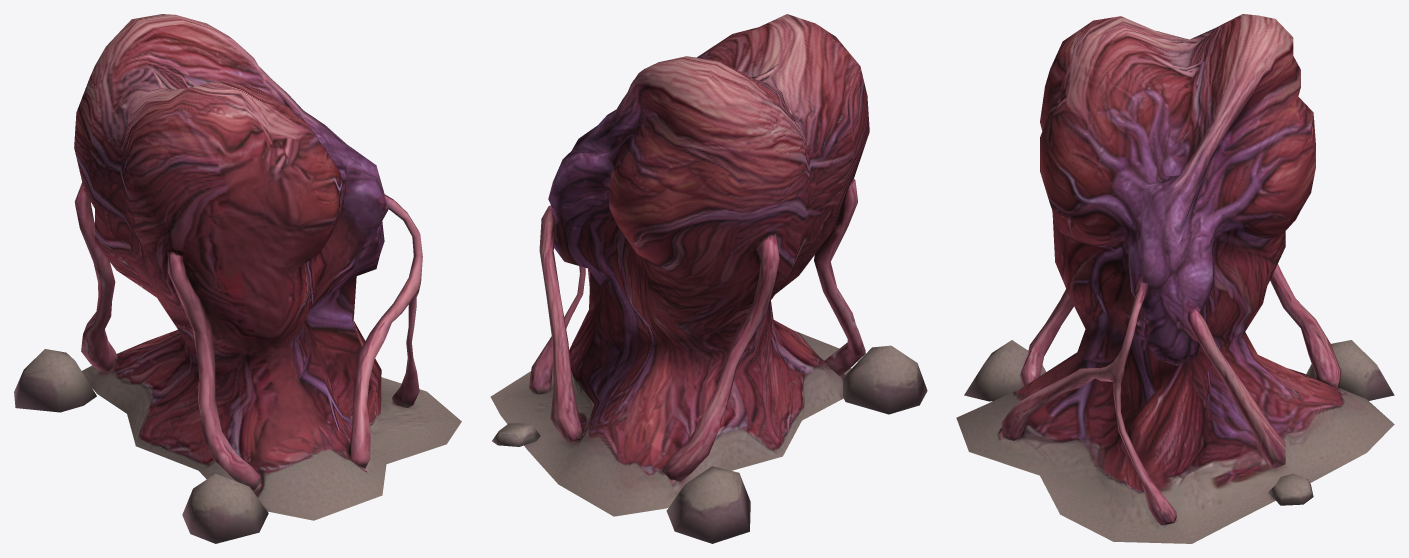
Rendered from organic1.fbx.
3 renders of one model, left to right at view 1: azimuth 30°, elevation 25°; view 2: azimuth 150°, elevation 25°; view 3: azimuth 270°, elevation 25°, orthographic. The views are drawn at different scales.
Visible parts, largest first — view 1: tripo_node_11bd1eb4.003; view 2: tripo_node_11bd1eb4.003; view 3: tripo_node_11bd1eb4.003.
Part boxes in pixels (box(x1,y1,x2,y2)): tripo_node_11bd1eb4.003: box(14, 14, 461, 543); tripo_node_11bd1eb4.003: box(490, 14, 927, 543); tripo_node_11bd1eb4.003: box(956, 14, 1394, 543).
Size of the model in its own units: 0.5898 by 0.6914 by 0.6758.
